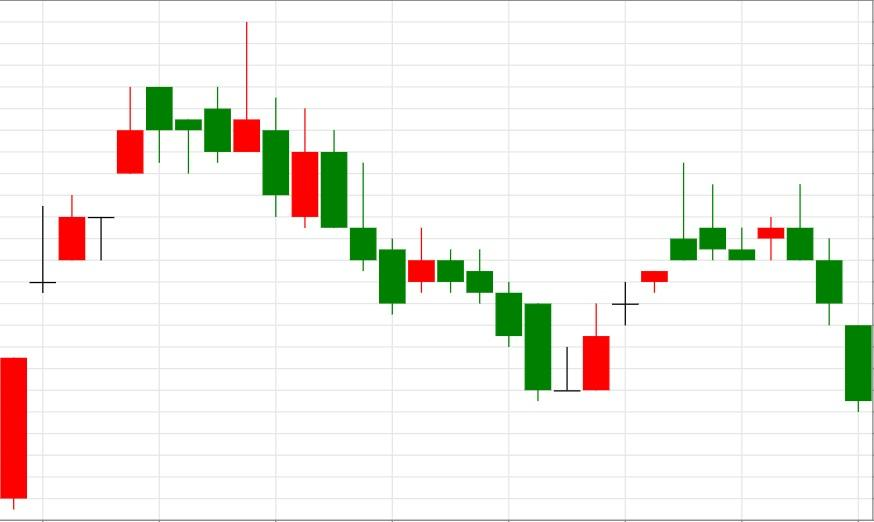morning_star_rise: (145, 20, 611, 402)
three_black_crows_fall: (582, 162, 872, 412)
